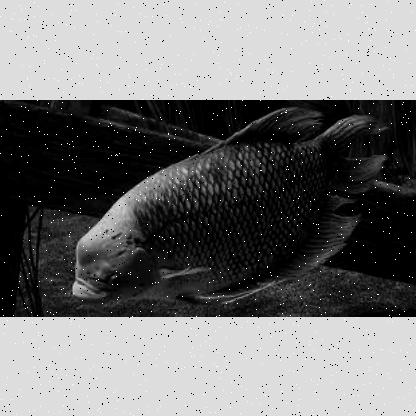gurame: (66, 108, 386, 308)
